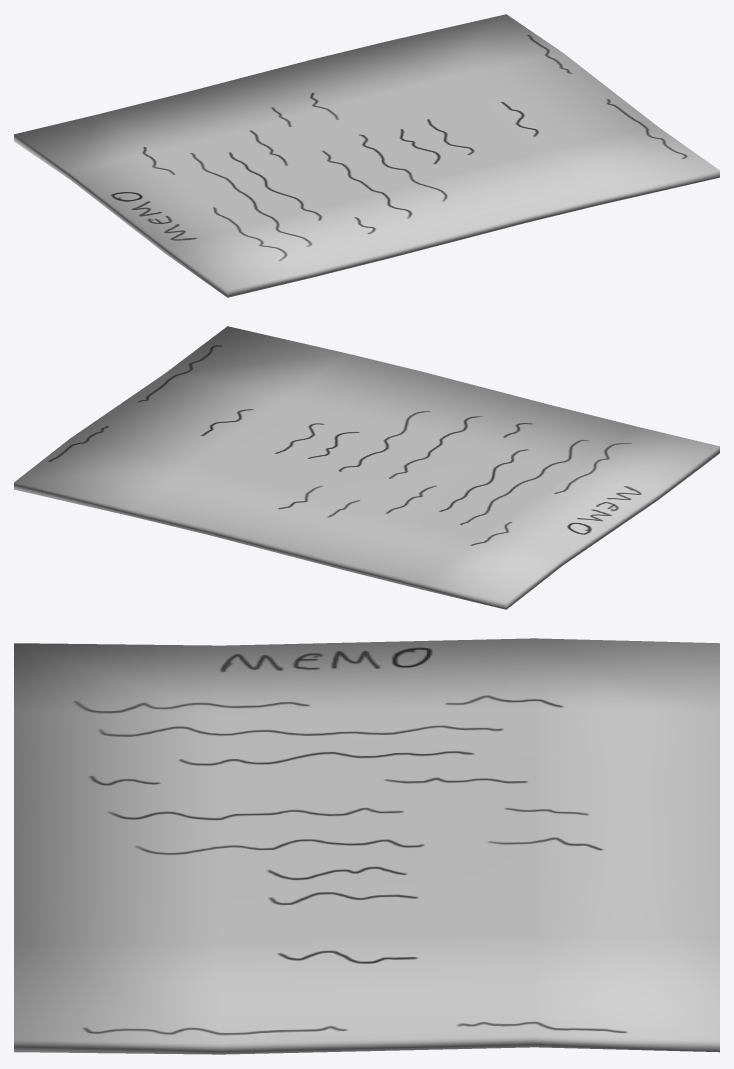
The model's file is paperMemo.obj.
3 views of the same model, one above another, from view 1: azimuth 30°, elevation 25°; view 2: azimuth 150°, elevation 25°; view 3: azimuth 270°, elevation 25° (orthographic). The views are drawn at different scales.
Parts seen in each view (by area): view 1: Cube; view 2: Cube; view 3: Cube.
Boxes of the visible parts, bbox=[...] form: Cube: bbox=[14, 14, 719, 297]; Cube: bbox=[14, 326, 719, 609]; Cube: bbox=[14, 638, 719, 1054].
Size of the model in its own units: 2.62 by 0.0717 by 1.97.
